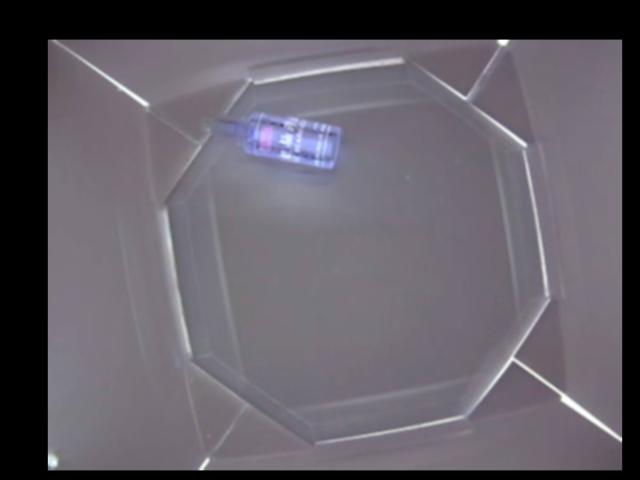Bottle: (203, 114, 342, 169)
